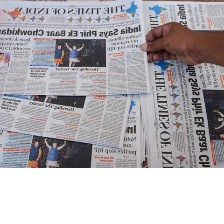news_paper: (0, 0, 152, 96), (144, 0, 224, 172), (0, 90, 145, 168), (0, 88, 134, 152)
